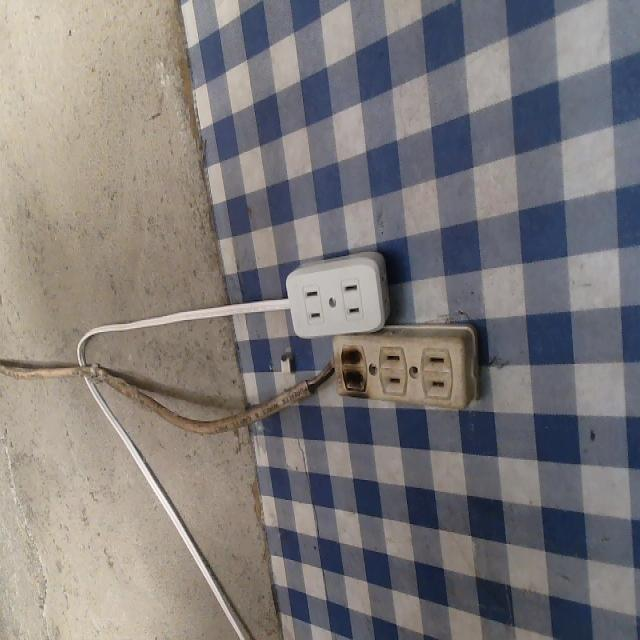-: (333, 339, 372, 401)
